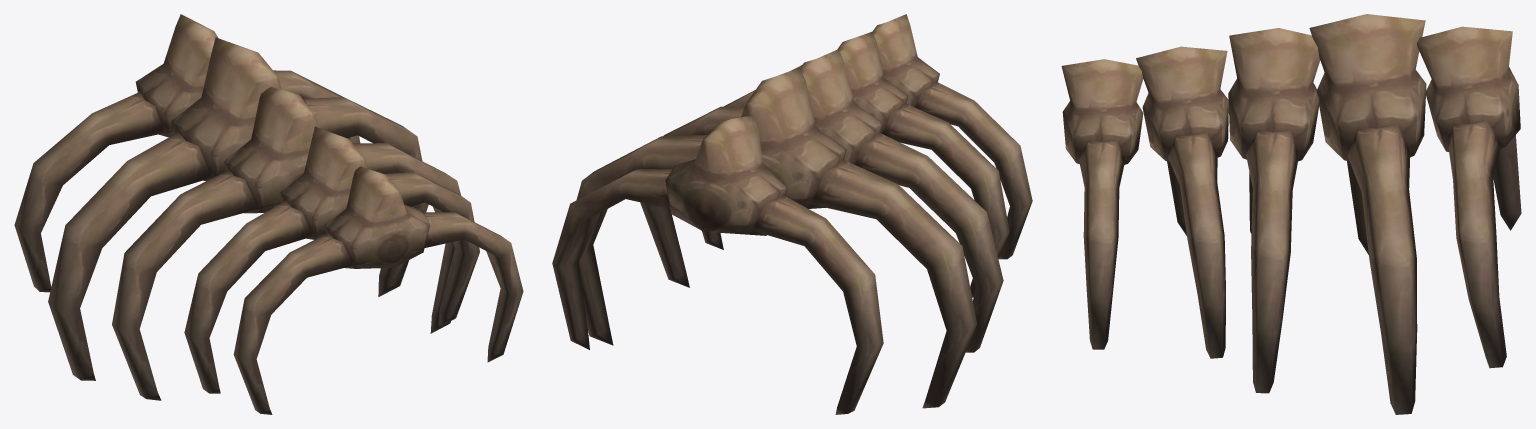
The model's file is dm_bone_03.fbx.
3 views of the same model, side by side, from view 1: azimuth 30°, elevation 25°; view 2: azimuth 150°, elevation 25°; view 3: azimuth 270°, elevation 25° (orthographic). The views are drawn at different scales.
Parts seen in each view (by area): view 1: dm_bone_03; view 2: dm_bone_03; view 3: dm_bone_03.
Boxes of the visible parts, bbox=[...] form: dm_bone_03: bbox=[14, 14, 523, 414]; dm_bone_03: bbox=[552, 14, 1032, 414]; dm_bone_03: bbox=[1061, 14, 1521, 414].
Bounding box in the file's own units: 5.9 × 4.29 × 5.56.
